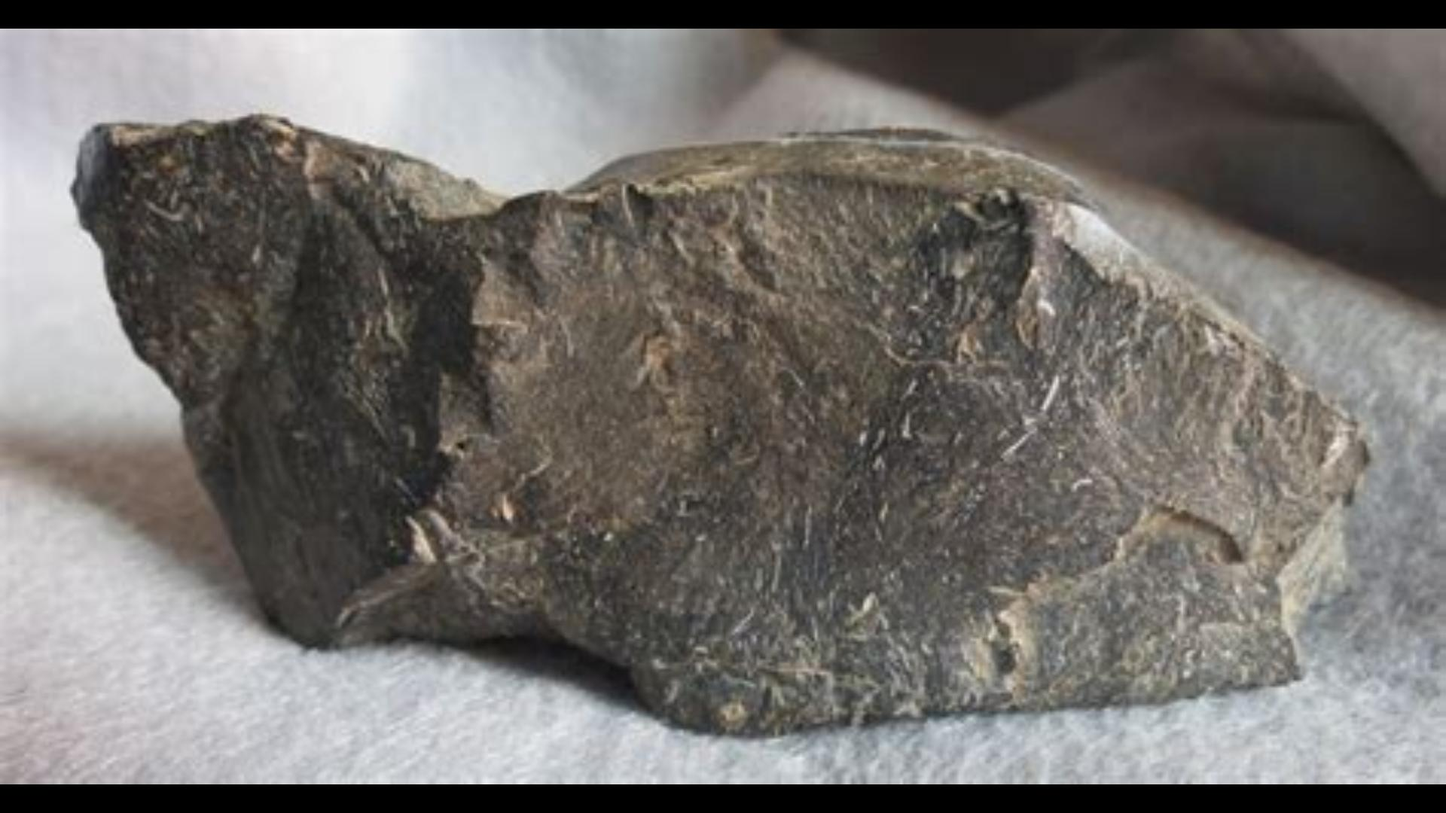rock: (79, 120, 1354, 730)
